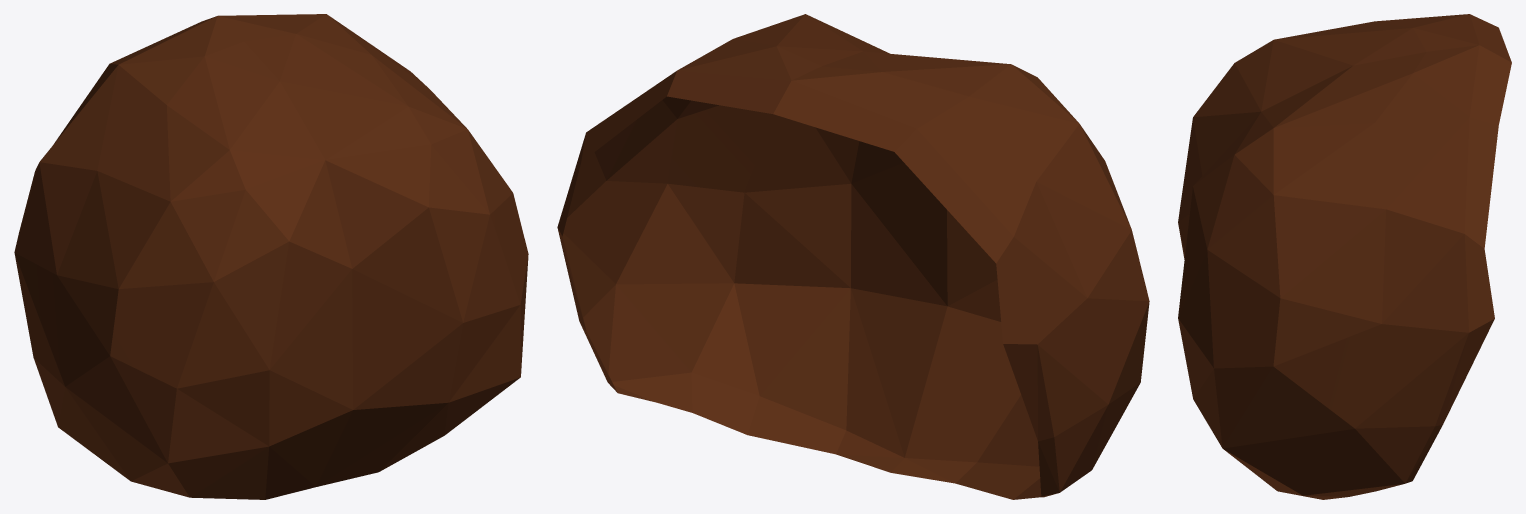
Rendered from CasinoHair1.glb.
3 views of the same model, side by side, from view 1: azimuth 30°, elevation 25°; view 2: azimuth 150°, elevation 25°; view 3: azimuth 270°, elevation 25° (orthographic). The views are drawn at different scales.
Visible parts, largest first — view 1: CasinoHair1; view 2: CasinoHair1; view 3: CasinoHair1.
Boxes of the visible parts, x1,y1,x2,y2 form: CasinoHair1: (14,14,528,499); CasinoHair1: (557,14,1149,499); CasinoHair1: (1178,14,1511,499).
Bounding box in the file's own units: 0.1939 × 0.1748 × 0.1293.
1 material, 1 textured.
